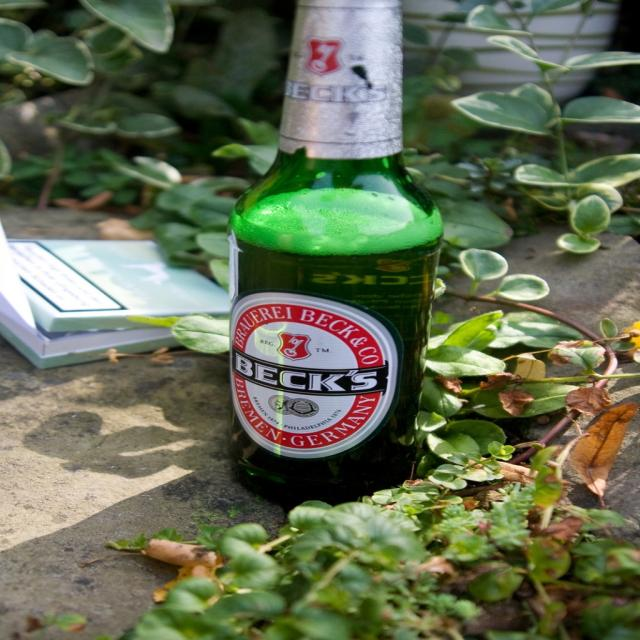becks: (232, 294, 401, 459)
